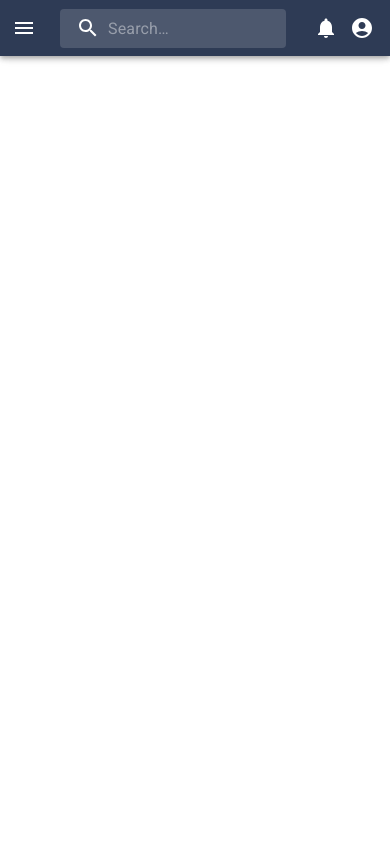
Left Sidebar tests › Mobile view state › temporary sidebar should be visible when the menu button is clicked
What coordinates should you click on to do the following:
click the button with test id "sidebar-menu-button"
I would click on:
 (24, 28)
Its box is 4,8 -> 44,48.
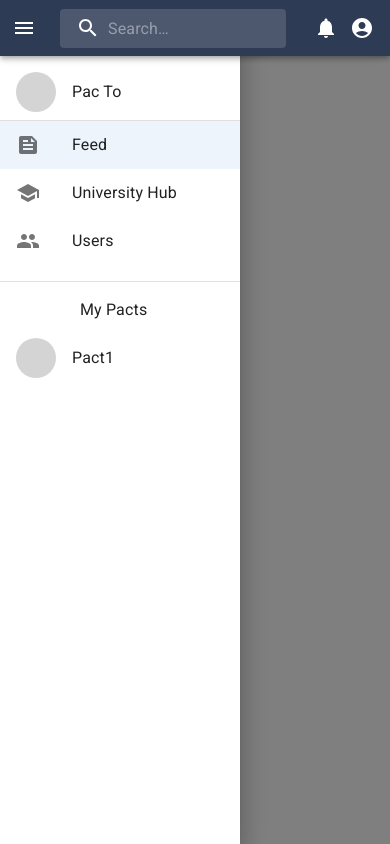
Expected: the element with test id "temporary-sidebar" is shown
